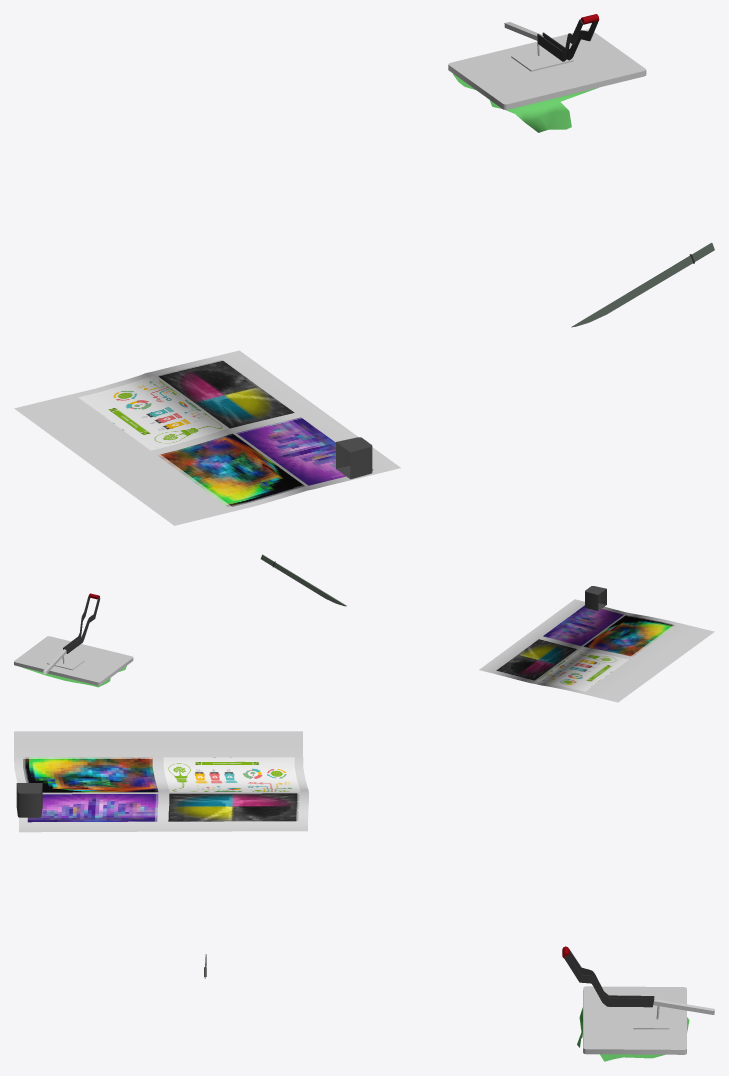
File: Animaciones_ArtesGraficas.glb
3 views of the same model, one above another, from view 1: azimuth 30°, elevation 25°; view 2: azimuth 150°, elevation 25°; view 3: azimuth 270°, elevation 25° (orthographic). The views are drawn at different scales.
Parts seen in each view (by area): view 1: Plane.008, Sublimadora_tapa, camisa.001, Toner_MAx, Guillotina_Cuchilla; view 2: Plane.008, Sublimadora_tapa, Guillotina_Cuchilla, Toner_MAx, camisa.001; view 3: Plane.008, Sublimadora_tapa, Toner_MAx.
Boxes of the visible parts, x1,y1,x2,y2 form: Plane.008: [14, 350, 400, 525]; Sublimadora_tapa: [448, 14, 646, 109]; camisa.001: [453, 74, 598, 132]; Toner_MAx: [336, 437, 372, 479]; Guillotina_Cuchilla: [571, 242, 714, 327]; Plane.008: [479, 599, 714, 702]; Sublimadora_tapa: [14, 593, 133, 685]; Guillotina_Cuchilla: [260, 554, 346, 606]; Toner_MAx: [585, 586, 606, 610]; camisa.001: [21, 666, 126, 687]; Plane.008: [14, 731, 308, 832]; Sublimadora_tapa: [562, 946, 714, 1054]; Toner_MAx: [16, 783, 42, 817].
Size of what is drawn, in the model's own units: 7.76 by 1.07 by 6.58.
12 materials, 5 textured.
